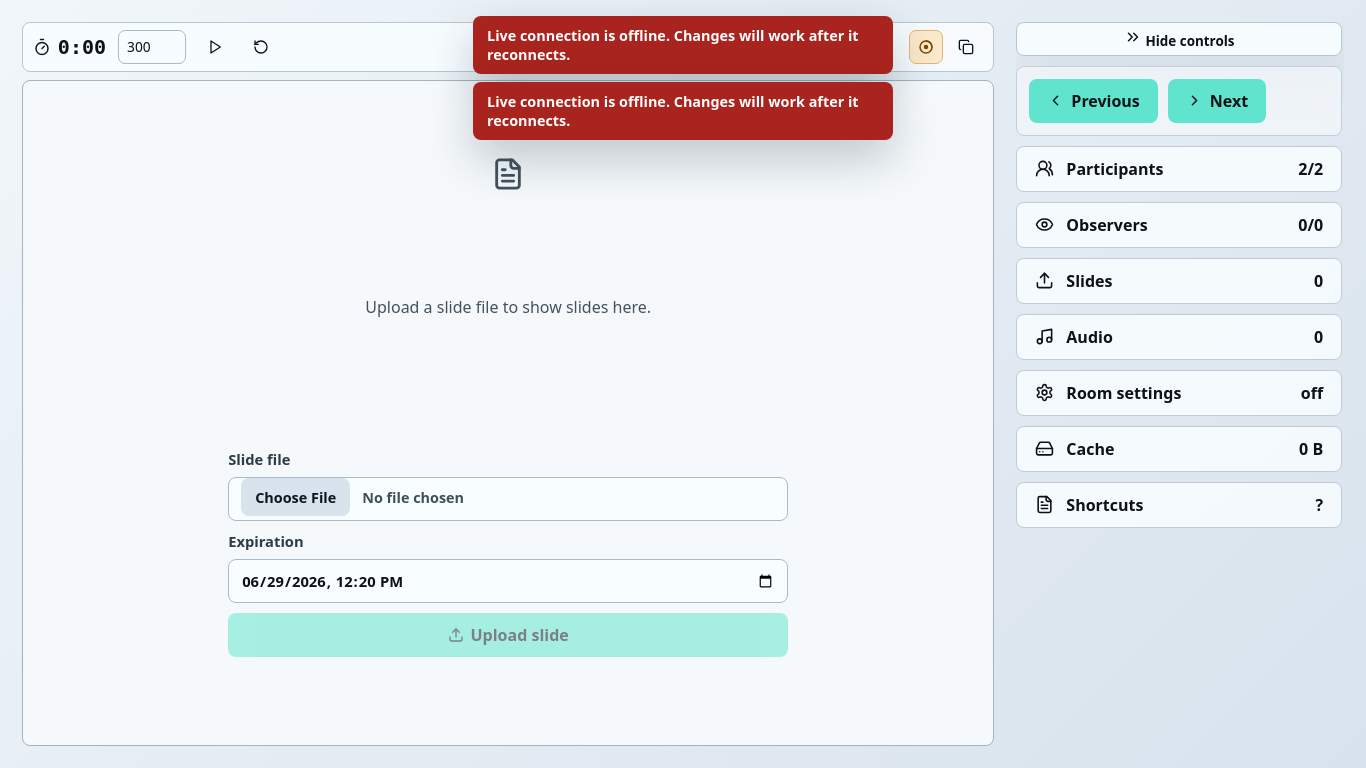
Test: App landing polish › shows only user-initiated realtime command errors
This screenshot has width=1366, height=768.
Click the button "Participants 2/2". click: point(1115, 169)
box: [1017,147,1341,191]
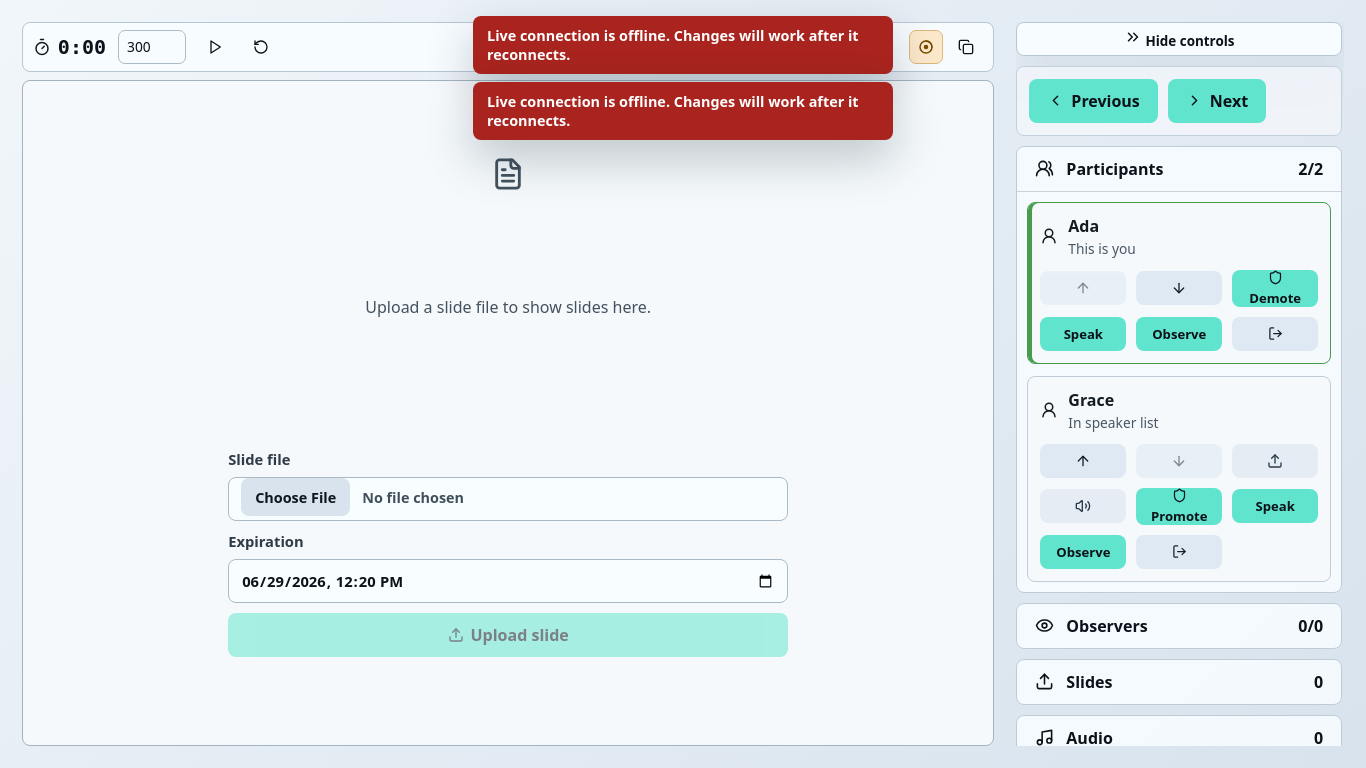
Expected: the button named "Move down" below "This is you" is shown
Click the button named "Move down" below "This is you". click: point(1179, 288)
box: [1136,271,1222,305]
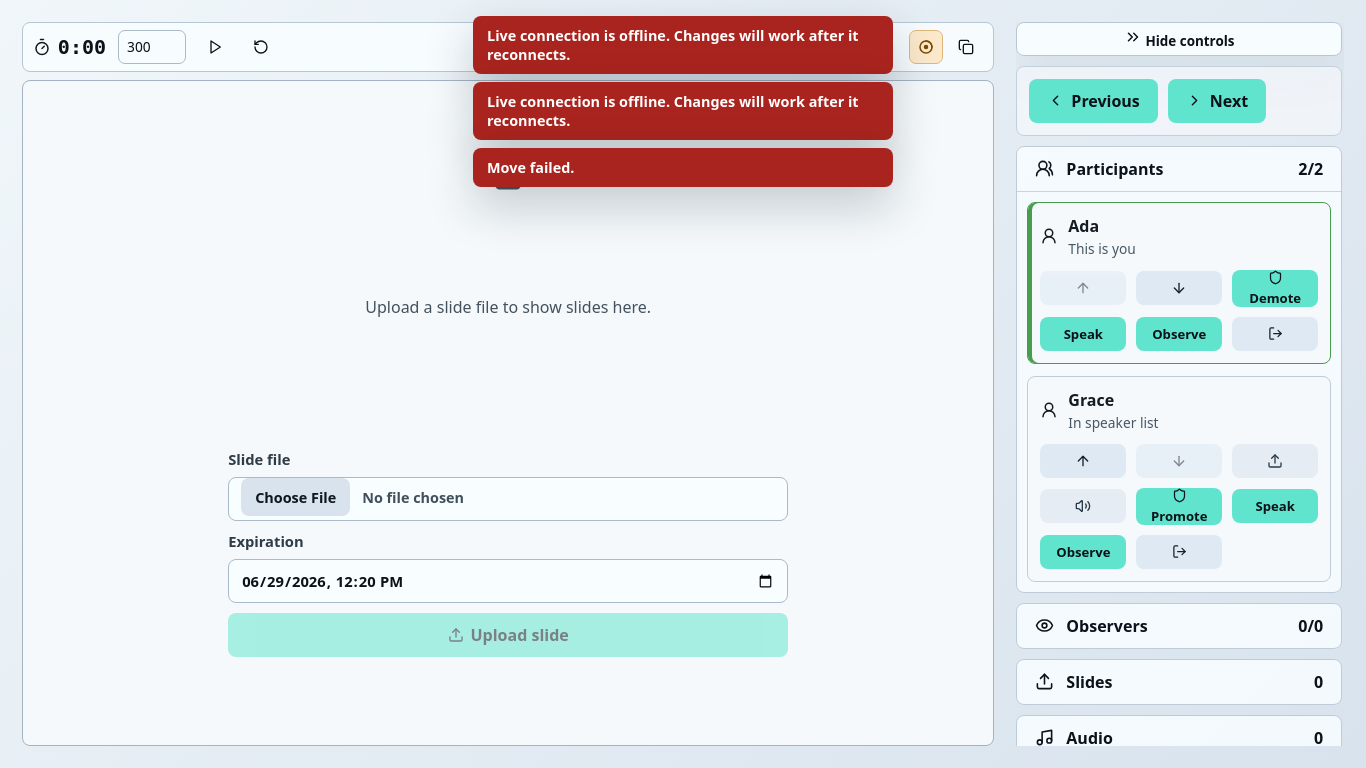
Expected: the text "Move failed." is shown, [473,148,893,187]
